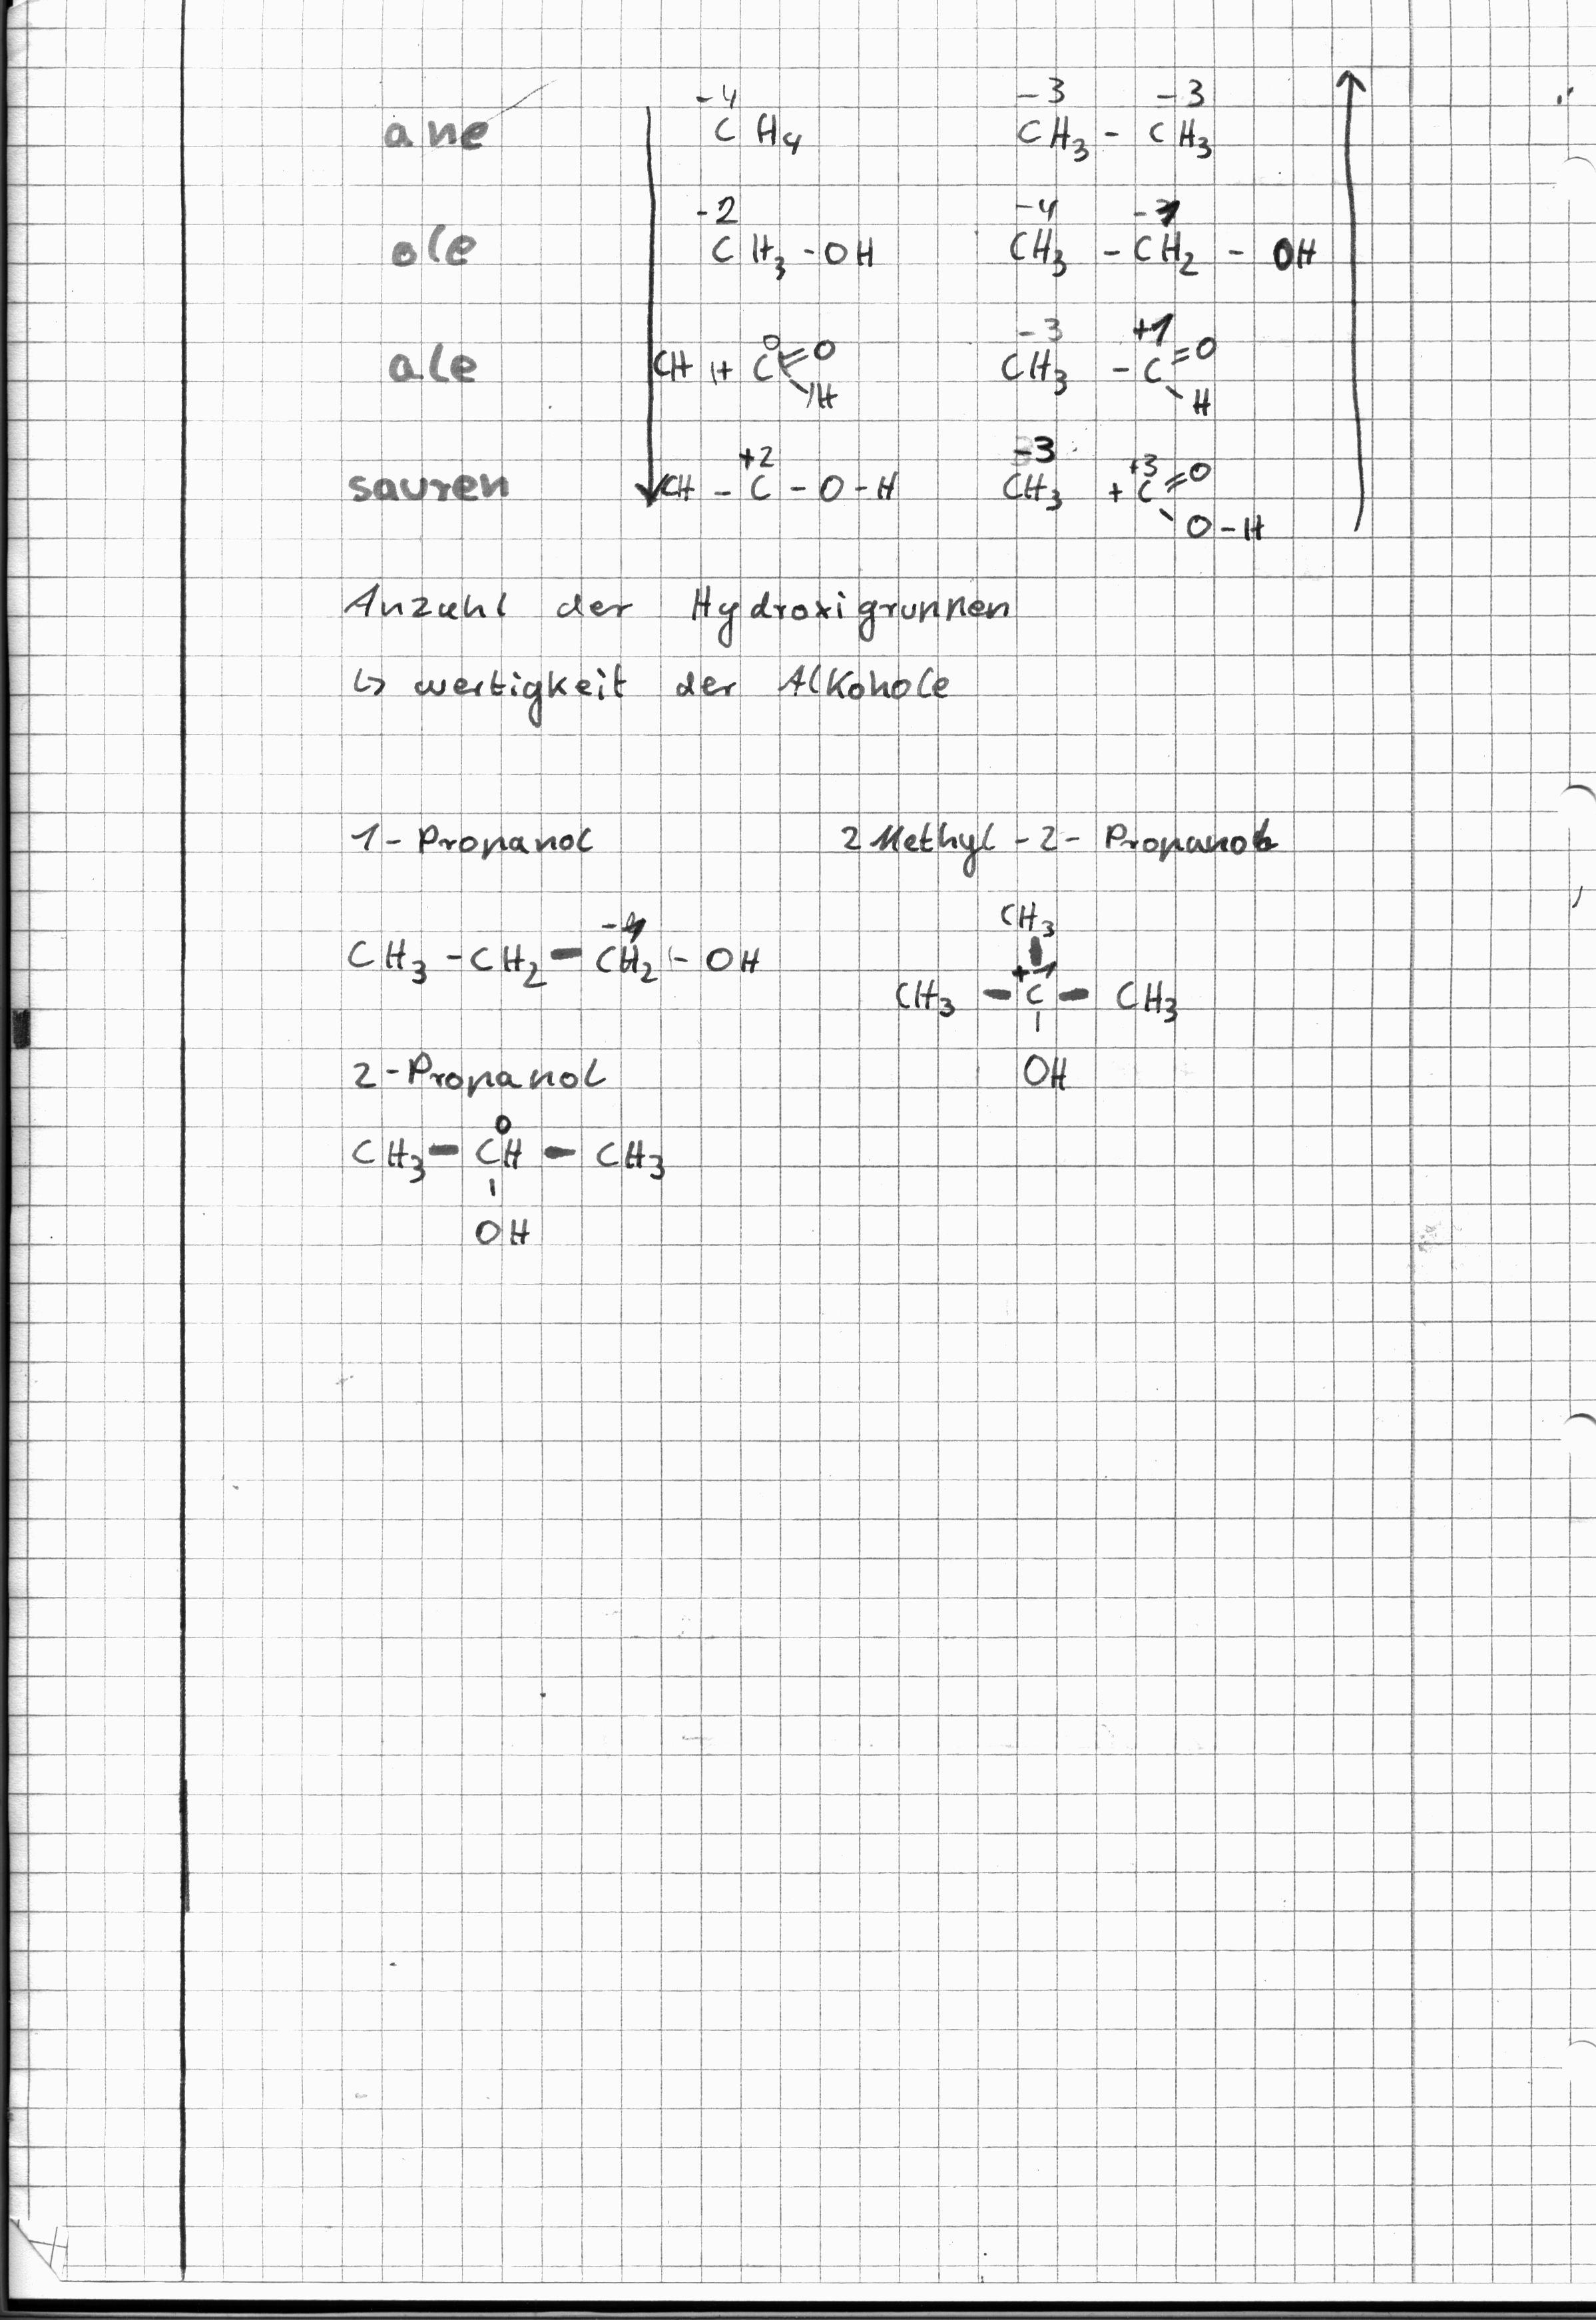word: (337, 567, 1015, 737), (327, 1035, 698, 1260), (887, 896, 1195, 1111), (814, 790, 1310, 893), (335, 907, 778, 1015), (993, 177, 1334, 293), (999, 428, 1283, 563), (979, 301, 1233, 424), (982, 64, 1238, 173), (331, 794, 639, 880), (646, 432, 927, 519), (643, 316, 854, 416), (688, 185, 884, 292), (682, 71, 824, 174)
